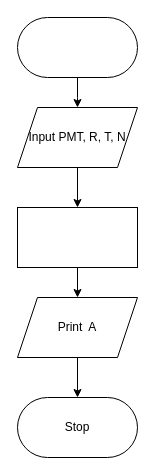
This 155x475 diagram has some shape labels left out. Each missing label, with the centre of its shape:
"A = (PMT)*[(1 + R/N)^N*T - 1 ] / (R/N)" belongs at point 77,237.
"Start" belongs at point 77,47.
